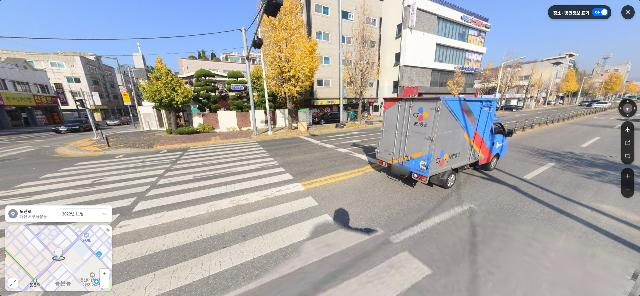ginkgo: (253, 1, 321, 131), (342, 1, 380, 124), (495, 60, 520, 112), (520, 62, 541, 109), (536, 61, 557, 108), (557, 68, 580, 105), (472, 64, 495, 97), (600, 71, 625, 100), (446, 62, 466, 97)
other: (136, 56, 192, 135)
